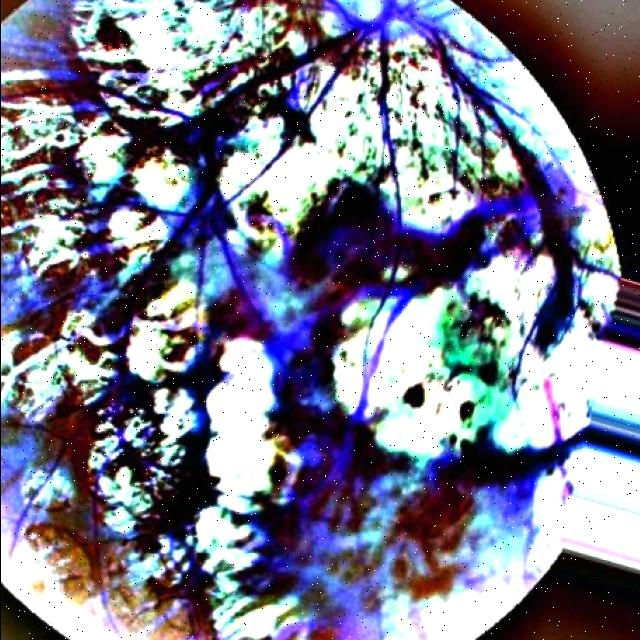Nerves: (135, 0, 613, 399), (354, 246, 424, 414)
Optic Disk: (317, 0, 511, 77)
